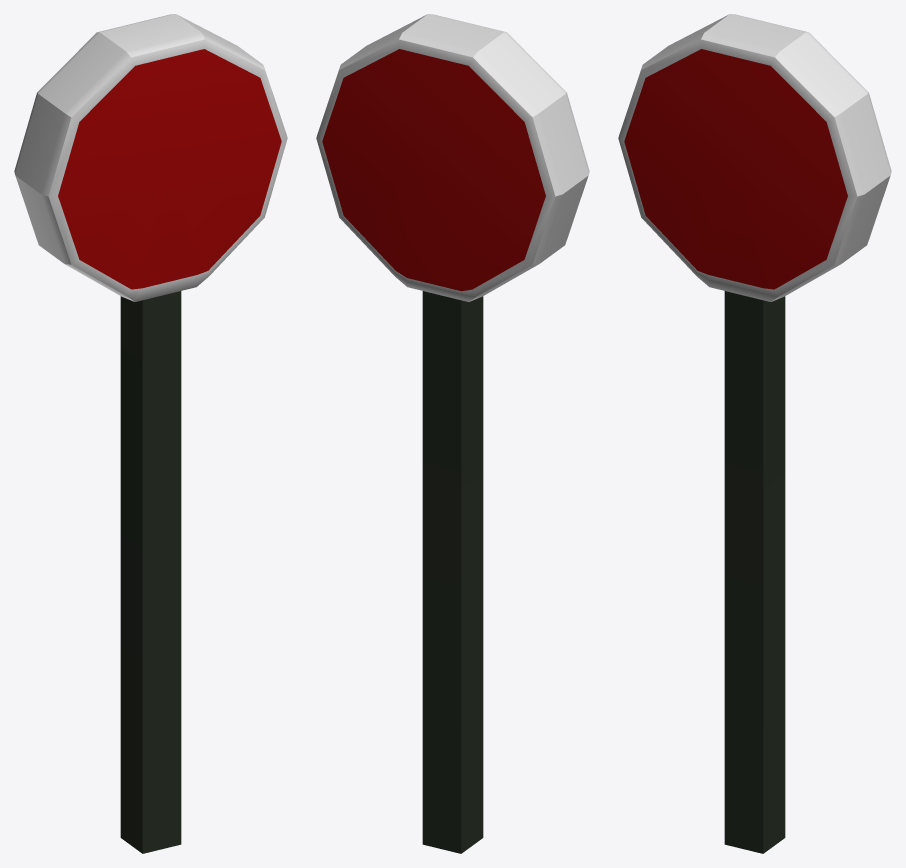
The model's file is Stop.fbx.
3 views of the same model, side by side, from view 1: azimuth 30°, elevation 25°; view 2: azimuth 150°, elevation 25°; view 3: azimuth 330°, elevation 25° (orthographic).
Visible parts, largest first — view 1: pCylinder1; view 2: pCylinder1; view 3: pCylinder1.
Boxes of the visible parts, x1,y1,x2,y2 form: pCylinder1: [14, 14, 287, 853]; pCylinder1: [316, 14, 589, 853]; pCylinder1: [618, 14, 891, 853].
Size of the model in its own units: 36 by 113 by 9.6.
